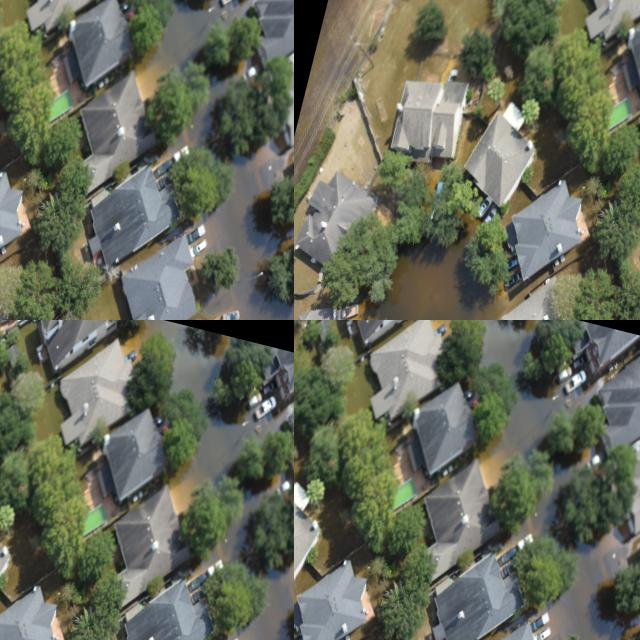fire: (0, 320, 101, 640), (479, 384, 566, 486), (550, 534, 628, 640), (481, 320, 533, 378), (569, 389, 593, 412)
